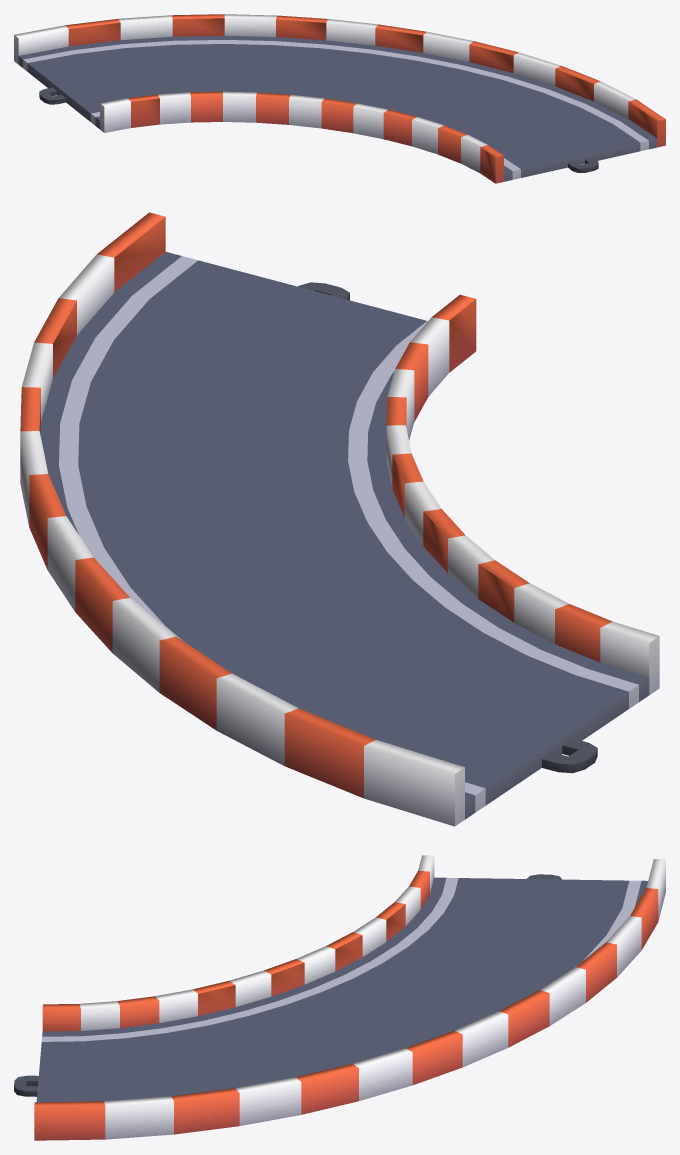
File: track-road-wide-corner-large.021_lev1.glb
3 renders of one model, top to bottom at view 1: azimuth 30°, elevation 25°; view 2: azimuth 150°, elevation 25°; view 3: azimuth 270°, elevation 25°, orthographic. The views are drawn at different scales.
Visible parts, largest first — view 1: track-road-wide-corner-large.021_lev1; view 2: track-road-wide-corner-large.021_lev1; view 3: track-road-wide-corner-large.021_lev1.
Part boxes in pixels (x1,y1,x2,y2): track-road-wide-corner-large.021_lev1: [14, 14, 665, 183]; track-road-wide-corner-large.021_lev1: [20, 212, 659, 826]; track-road-wide-corner-large.021_lev1: [14, 855, 665, 1140].
Bounding box in the file's own units: 5.05 × 0.3 × 5.34.
1 material, 1 textured.
